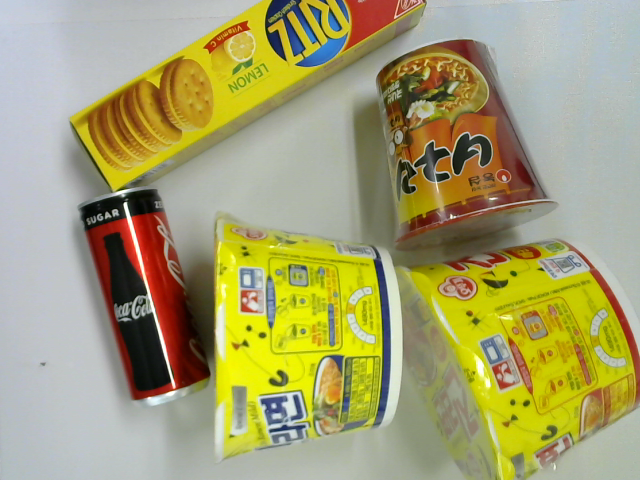Coca_Cola_Zero_Can_250ml: (78, 183, 213, 409)
Jinlamyeon_Hot_Taste_Large_Cup: (394, 236, 640, 480)
Jinlamyeon_Mild_Taste_Large_Cup: (214, 210, 404, 466)
Raccoon: (376, 37, 560, 253)
Ritz_Remon_96g: (69, 1, 426, 194)
